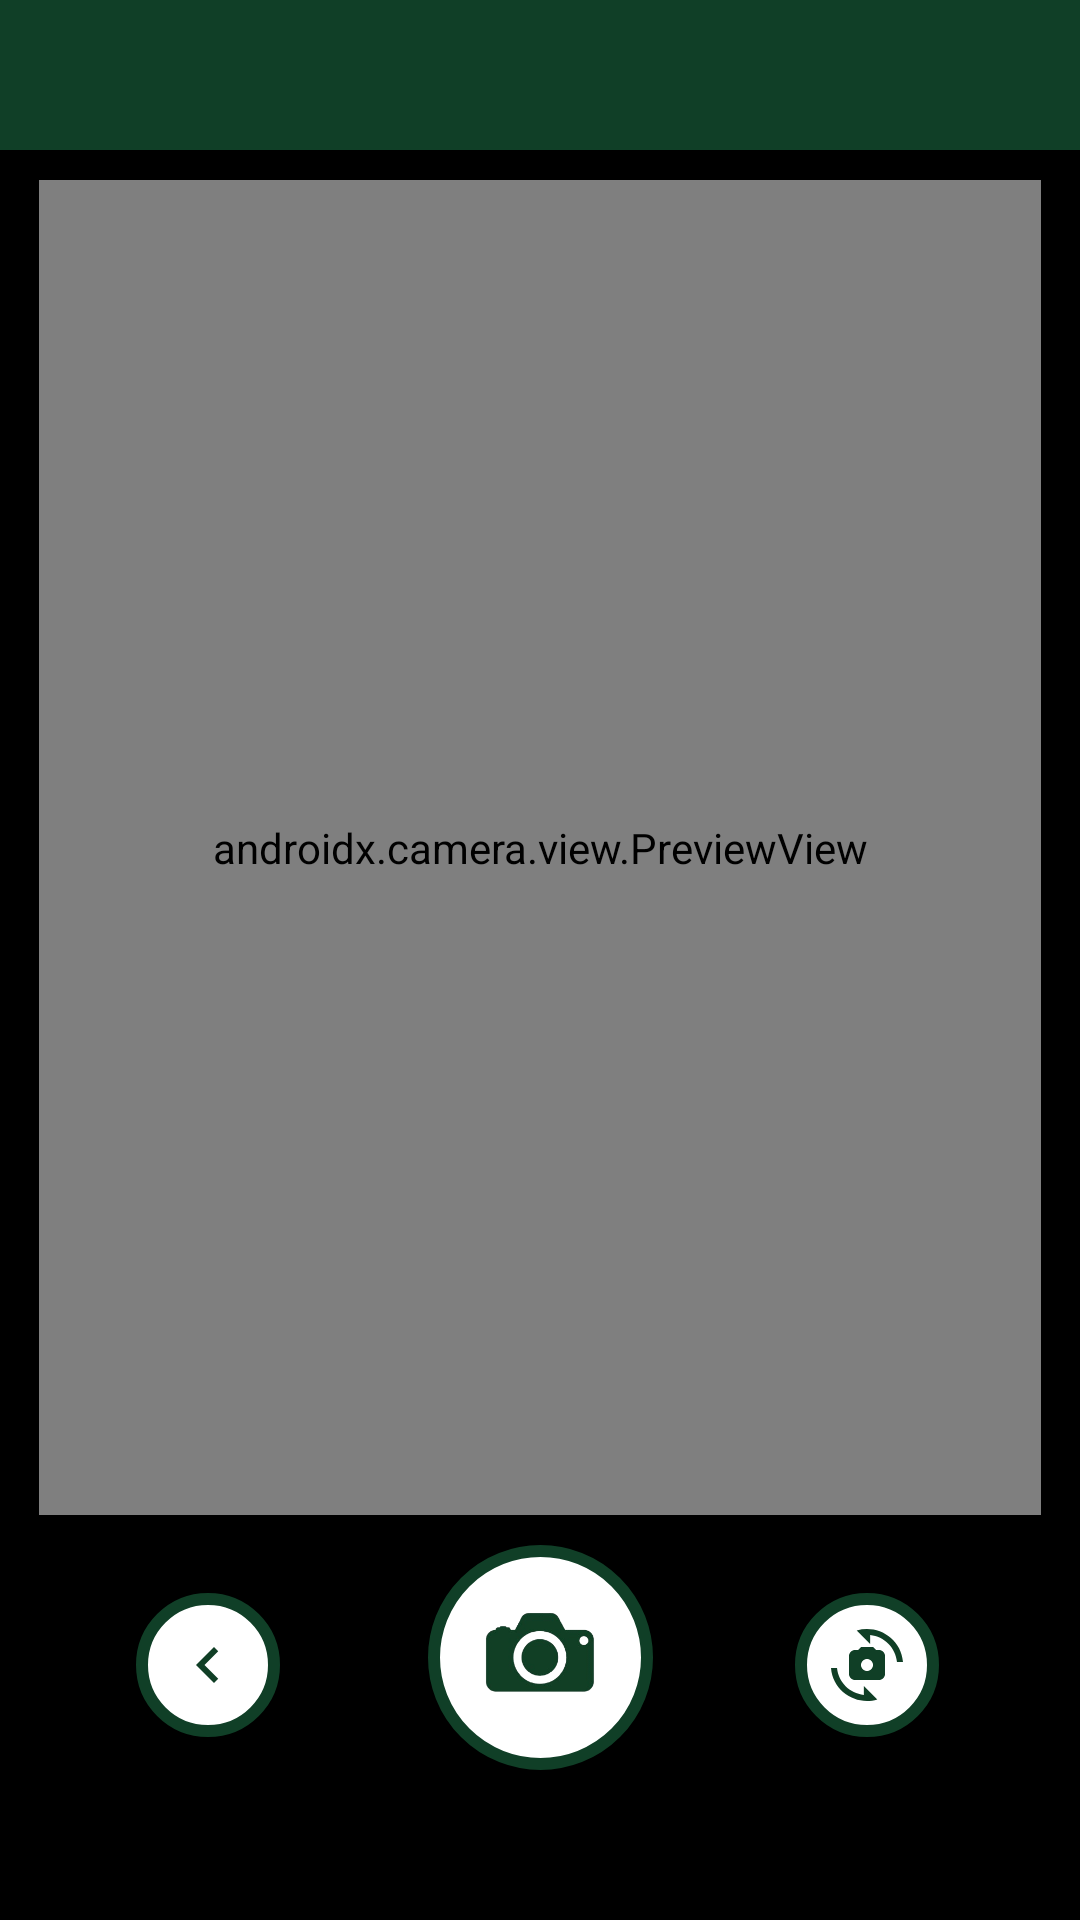

Icons on this 1080px×1920px Android screen, each with the point to tap as (x=x, y=y):
Back: (x=208, y=1665)
cam: (x=540, y=1652)
Switch Camera: (x=867, y=1665)
